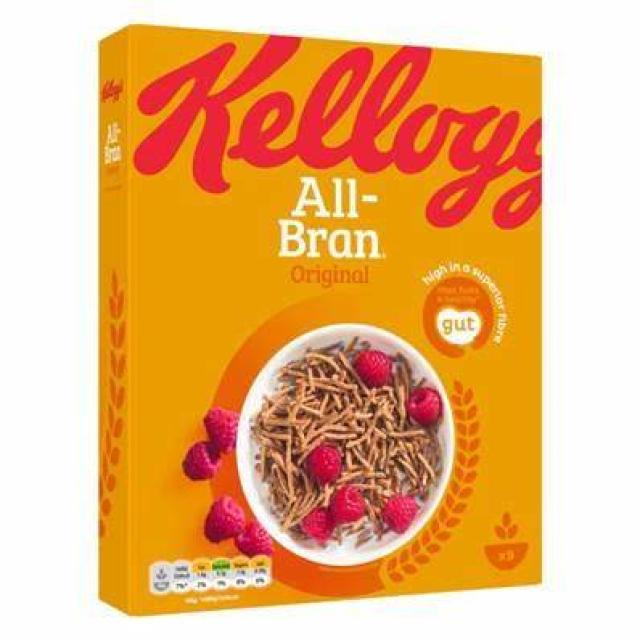Caja: (80, 14, 555, 610)
